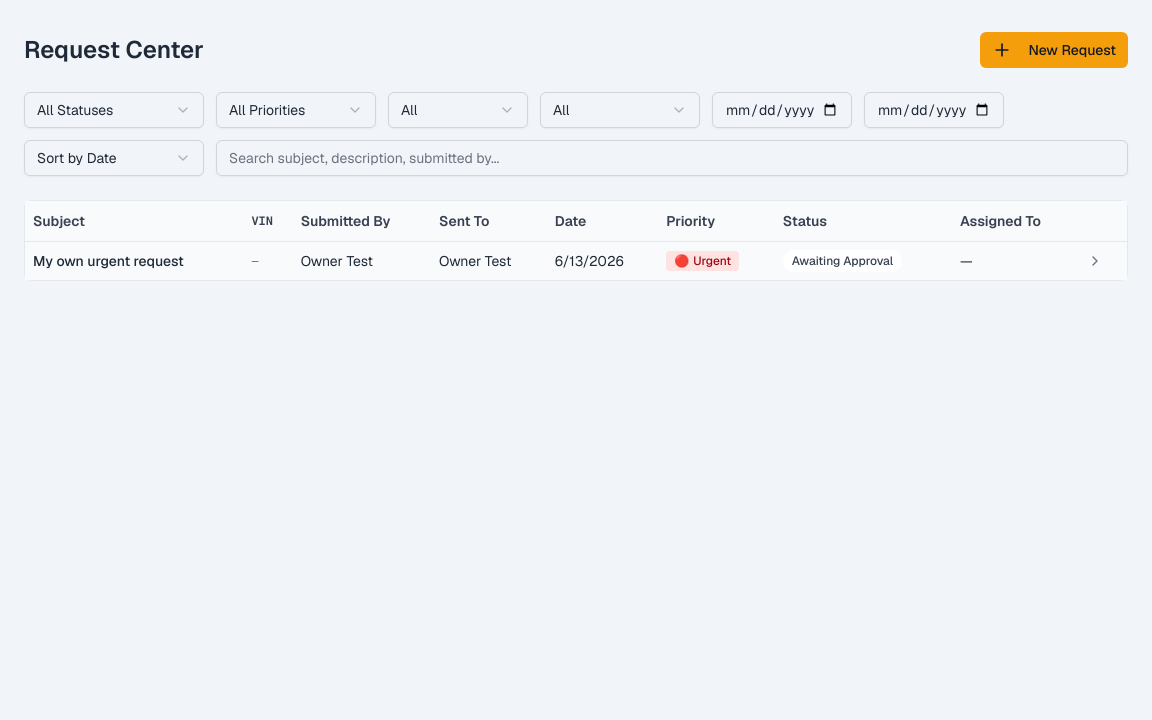
RequestCenterPage › shows Management Actions on the owner's OWN awaiting-approval request
The width and height of the screenshot is (1152, 720).
Step 1. Click the text "My own urgent request" → (134, 260), box [25,241,243,280]
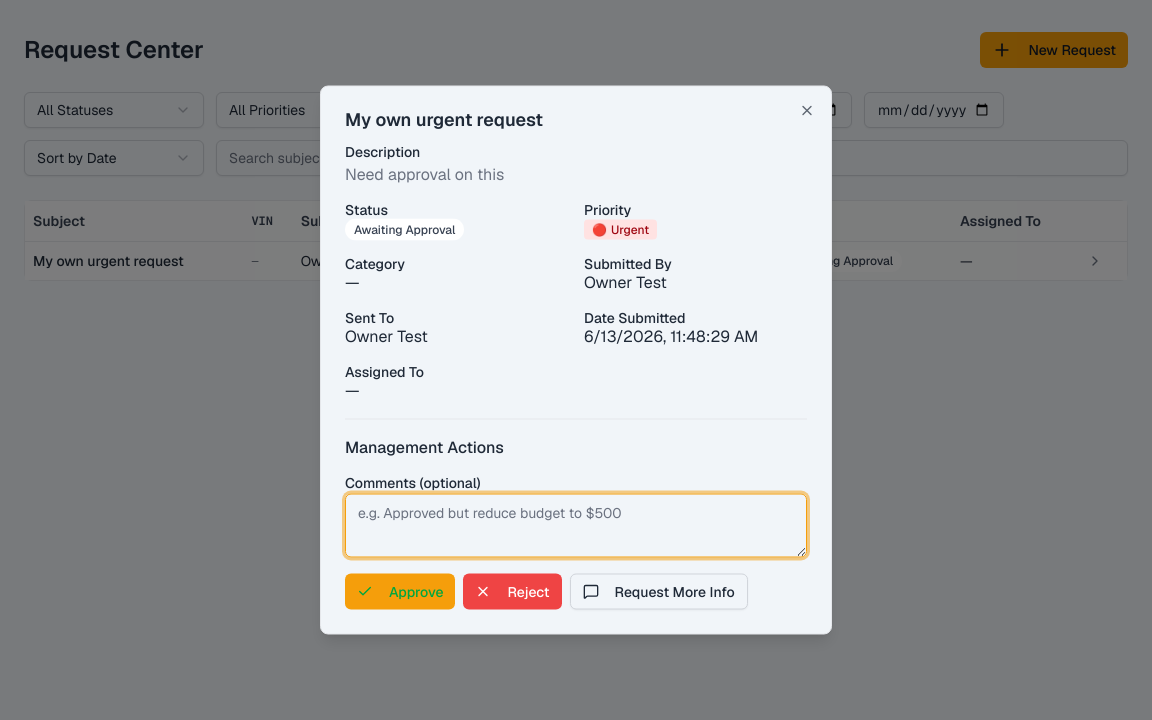
Check: the heading "Management Actions" is shown, box [345,436,504,458]
Check: the button "Approve" is shown, box [345,574,456,610]
Check: the button "Reject" is shown, box [464,574,562,610]
